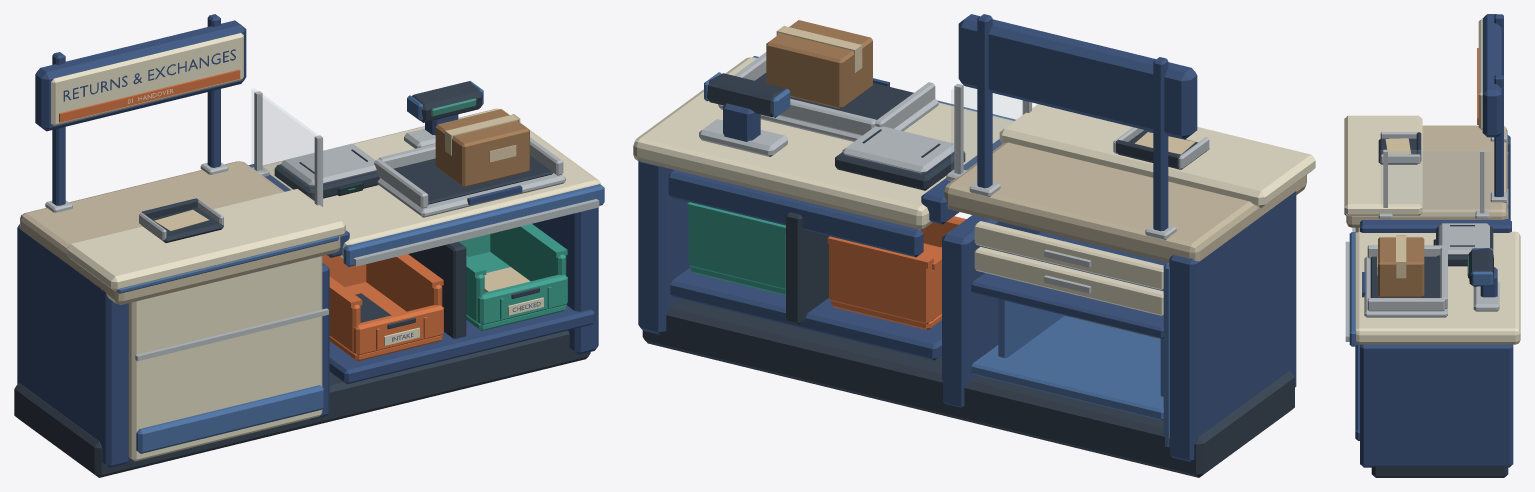
File: mall-returns-exchange-counter.glb
The picture shows the model from 3 angles, left to right: view 1: azimuth 30°, elevation 25°; view 2: azimuth 150°, elevation 25°; view 3: azimuth 270°, elevation 25°; orthographic projection. The views are drawn at different scales.
Parts seen in each view (by area): view 1: Modular body and service shelf | Ivory laminate and signage, Modular body and service shelf | Midnight blue powder-coated, Modular body and service shelf | Blue black rubber and shado, Modular body and service shelf | Warm stone-effect counter s, Modular body and service shelf | Casement cobalt blue, Separate intake and checked-return bins | Burnt tangerine in, Divider and sign | Midnight blue powder-coated steel, Separate intake and checked-return bins | Desaturated jade c, Divider and sign | Ivory laminate and signage, Parcel inspection tray and sample carton | Kraft corrugated , Parcel inspection tray and sample carton | Brushed inspectio, Divider and sign | Neutral transparent acrylic divider (+10 smaller); view 2: Modular body and service shelf | Midnight blue powder-coated, Modular body and service shelf | Blue black rubber and shado, Modular body and service shelf | Ivory laminate and signage, Divider and sign | Midnight blue powder-coated steel, Modular body and service shelf | Warm stone-effect counter s, Staff aisle storage and hardware | Casement cobalt blue, Staff aisle storage and hardware | Ivory laminate and signag, Separate intake and checked-return bins | Burnt tangerine in, Separate intake and checked-return bins | Desaturated jade c, Parcel inspection tray and sample carton | Kraft corrugated , Staff aisle storage and hardware | Midnight blue powder-coat, Parcel inspection tray and sample carton | Brushed inspectio (+9 smaller); view 3: Modular body and service shelf | Midnight blue powder-coated, Modular body and service shelf | Ivory laminate and signage, Modular body and service shelf | Warm stone-effect counter s, Divider and sign | Neutral transparent acrylic divider, Parcel inspection tray and sample carton | Brushed inspectio, Divider and sign | Midnight blue powder-coated steel, Parcel inspection tray and sample carton | Kraft corrugated , Flat scale and compact inspection scanner | Brushed inspecti, Modular body and service shelf | Blue black rubber and shado, Parcel inspection tray and sample carton | Blue black rubber, Flat scale and compact inspection scanner | Blue black rubbe, Divider and sign | Brushed inspection stainless (+6 smaller).
Part boxes in pixels (bbox=[...]): Modular body and service shelf | Ivory laminate and signage: bbox=[67, 108, 601, 461]; Modular body and service shelf | Midnight blue powder-coated: bbox=[17, 164, 598, 467]; Modular body and service shelf | Blue black rubber and shado: bbox=[14, 241, 590, 477]; Modular body and service shelf | Warm stone-effect counter s: bbox=[20, 161, 340, 304]; Modular body and service shelf | Casement cobalt blue: bbox=[116, 184, 604, 454]; Separate intake and checked-return bins | Burnt tangerine in: bbox=[322, 254, 443, 361]; Divider and sign | Midnight blue powder-coated steel: bbox=[35, 14, 246, 205]; Separate intake and checked-return bins | Desaturated jade c: bbox=[459, 224, 567, 331]; Divider and sign | Ivory laminate and signage: bbox=[51, 33, 243, 125]; Parcel inspection tray and sample carton | Kraft corrugated : bbox=[435, 109, 529, 187]; Parcel inspection tray and sample carton | Brushed inspectio: bbox=[139, 137, 565, 240]; Divider and sign | Neutral transparent acrylic divider: bbox=[252, 88, 322, 206]; Modular body and service shelf | Midnight blue powder-coated: bbox=[638, 139, 1296, 462]; Modular body and service shelf | Blue black rubber and shado: bbox=[642, 212, 1294, 477]; Modular body and service shelf | Ivory laminate and signage: bbox=[633, 57, 1315, 338]; Divider and sign | Midnight blue powder-coated steel: bbox=[958, 14, 1197, 231]; Modular body and service shelf | Warm stone-effect counter s: bbox=[944, 142, 1306, 262]; Staff aisle storage and hardware | Casement cobalt blue: bbox=[971, 299, 1163, 420]; Staff aisle storage and hardware | Ivory laminate and signag: bbox=[974, 221, 1163, 315]; Separate intake and checked-return bins | Burnt tangerine in: bbox=[827, 216, 966, 330]; Separate intake and checked-return bins | Desaturated jade c: bbox=[687, 202, 785, 295]; Parcel inspection tray and sample carton | Kraft corrugated : bbox=[766, 20, 872, 108]; Staff aisle storage and hardware | Midnight blue powder-coat: bbox=[971, 232, 1167, 338]; Parcel inspection tray and sample carton | Brushed inspectio: bbox=[718, 52, 1209, 169]; Modular body and service shelf | Midnight blue powder-coated: bbox=[1355, 135, 1513, 467]; Modular body and service shelf | Ivory laminate and signage: bbox=[1344, 115, 1520, 344]; Modular body and service shelf | Warm stone-effect counter s: bbox=[1346, 125, 1507, 227]; Divider and sign | Neutral transparent acrylic divider: bbox=[1381, 150, 1490, 212]; Parcel inspection tray and sample carton | Brushed inspectio: bbox=[1364, 132, 1447, 317]; Divider and sign | Midnight blue powder-coated steel: bbox=[1482, 14, 1503, 196]; Parcel inspection tray and sample carton | Kraft corrugated : bbox=[1378, 237, 1424, 297]; Flat scale and compact inspection scanner | Brushed inspecti: bbox=[1439, 223, 1499, 311]; Modular body and service shelf | Blue black rubber and shado: bbox=[1371, 466, 1508, 477]; Parcel inspection tray and sample carton | Blue black rubber: bbox=[1370, 132, 1440, 297]; Flat scale and compact inspection scanner | Blue black rubbe: bbox=[1436, 225, 1493, 286]; Divider and sign | Brushed inspection stainless: bbox=[1378, 131, 1506, 219].
Bounding box in the file's own units: 2.33 × 1.61 × 0.895.
